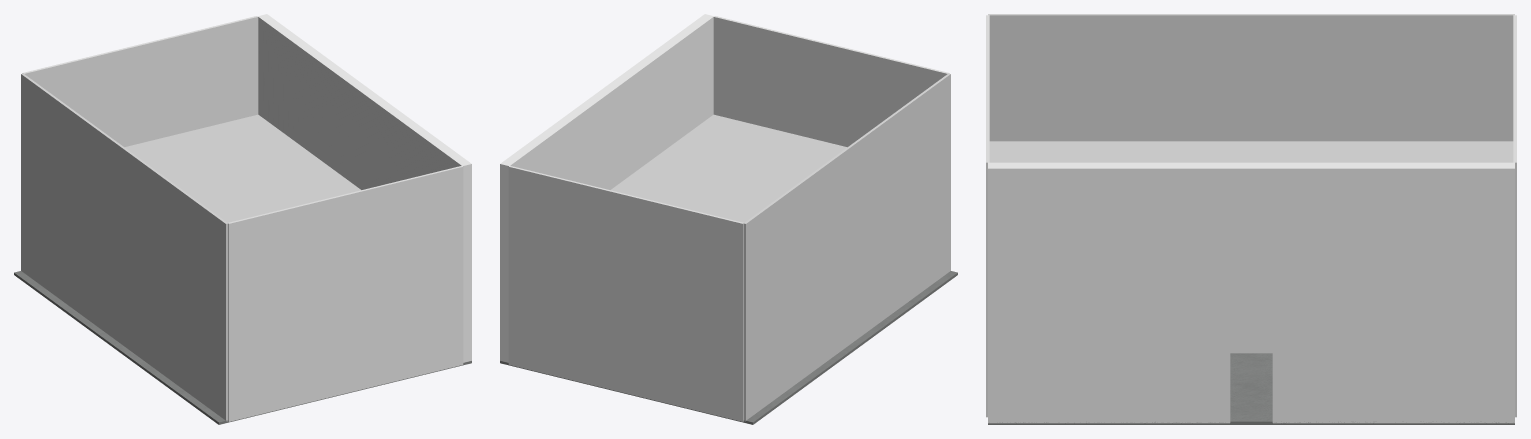
The model's file is RoooLoom_v3.gltf.
3 renders of one model, left to right at view 1: azimuth 30°, elevation 25°; view 2: azimuth 150°, elevation 25°; view 3: azimuth 270°, elevation 25°, orthographic. The views are drawn at different scales.
Parts seen in each view (by area): view 1: wall_02, wall_03, wall_01_entrance, wall_04, roof, floor; view 2: wall_04, wall_03, wall_01_entrance, wall_02, roof, floor; view 3: wall_01_entrance, wall_03, roof, floor, wall_04, wall_02.
Part boxes in pixels (x1,y1,x2,y2): wall_02: (228, 166, 463, 421); wall_03: (21, 73, 228, 421); wall_01_entrance: (258, 14, 471, 362); wall_04: (22, 16, 258, 147); roof: (125, 114, 361, 222); floor: (14, 271, 471, 424); wall_04: (508, 166, 743, 421); wall_03: (743, 73, 950, 421); wall_01_entrance: (500, 14, 713, 362); wall_02: (713, 16, 949, 147); roof: (610, 114, 846, 222); floor: (500, 271, 957, 424); wall_01_entrance: (988, 162, 1514, 423); wall_03: (988, 14, 1514, 141); roof: (989, 141, 1513, 162); floor: (988, 353, 1514, 424); wall_04: (1513, 15, 1516, 417); wall_02: (986, 15, 989, 417).
Bounding box in the file's own units: 1070 × 805 × 1510.
28 materials, 13 textured.
